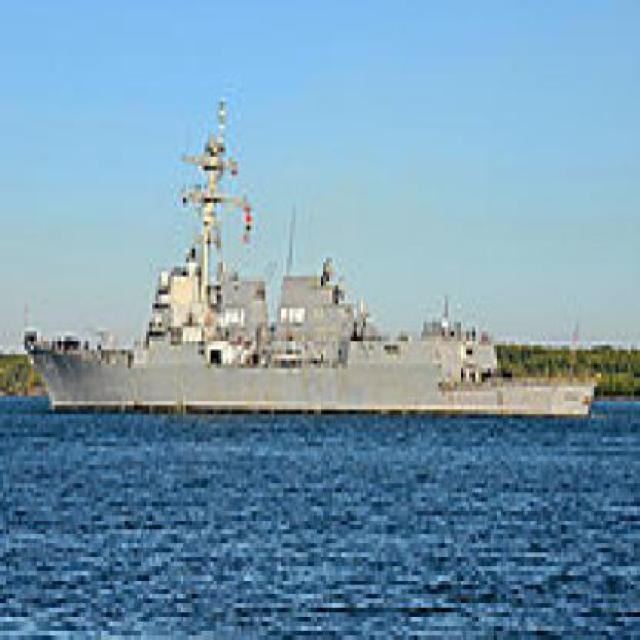warship2: (19, 246, 611, 438)
